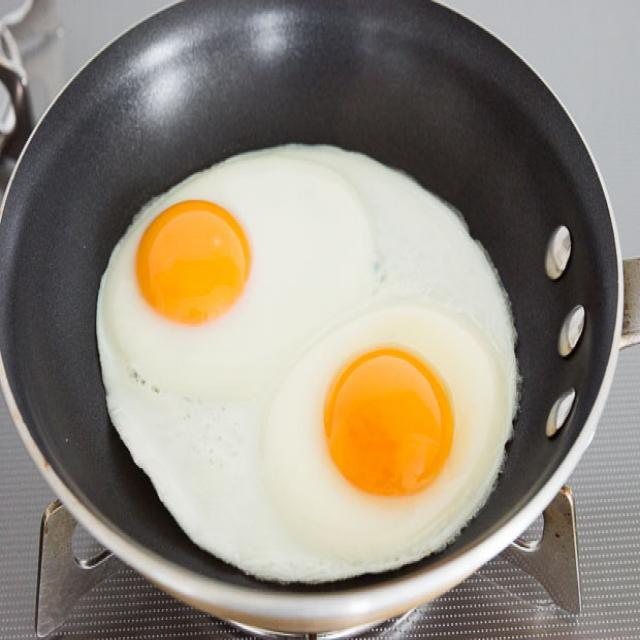Fried Egg: (98, 146, 517, 584)
